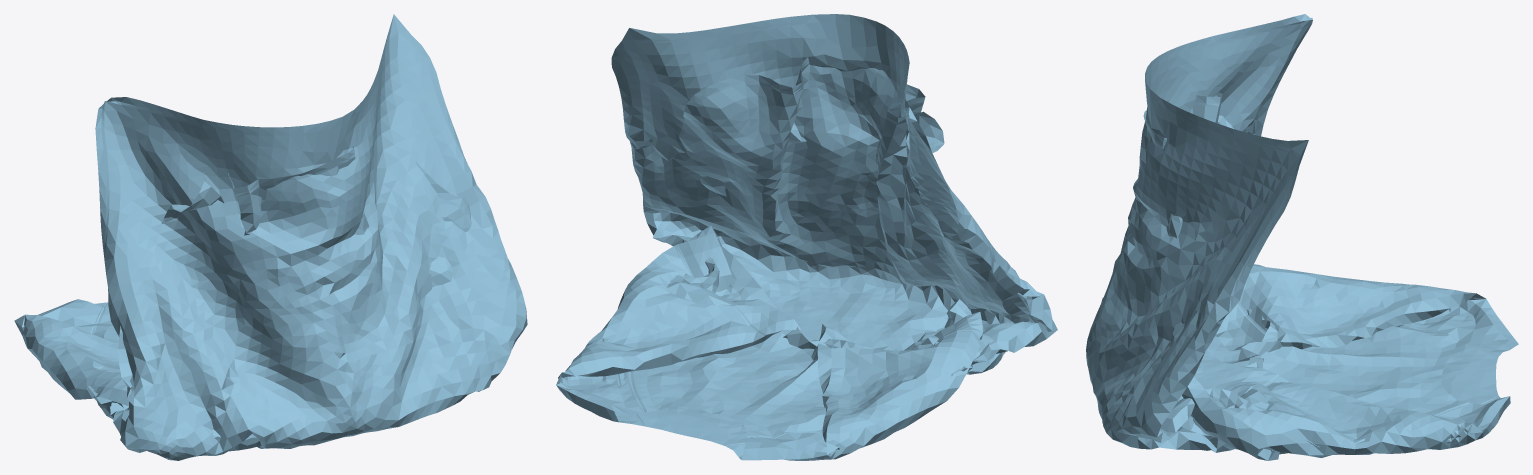
The model's file is frame_14.glb.
3 renders of one model, left to right at view 1: azimuth 30°, elevation 25°; view 2: azimuth 150°, elevation 25°; view 3: azimuth 270°, elevation 25°, orthographic. The views are drawn at different scales.
Parts seen in each view (by area): view 1: frame_14.obj; view 2: frame_14.obj; view 3: frame_14.obj.
Part boxes in pixels (<box>): frame_14.obj: <box>14,14,527,460</box>; frame_14.obj: <box>556,14,1057,460</box>; frame_14.obj: <box>1086,14,1518,460</box>.
Bounding box in the file's own units: 1.16 × 0.8599 × 1.05.
